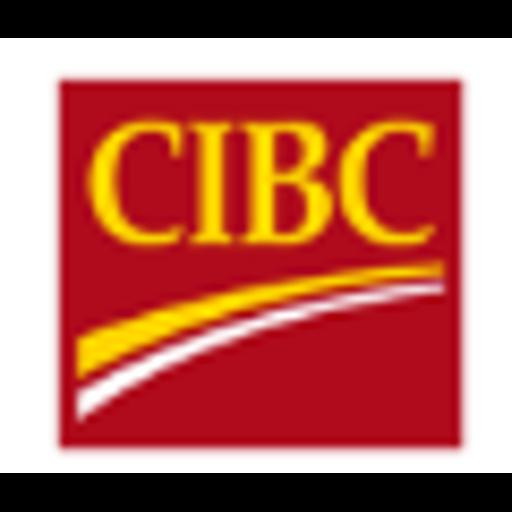Canadian Imperial Bank of Commerce: (0, 38, 512, 473)
